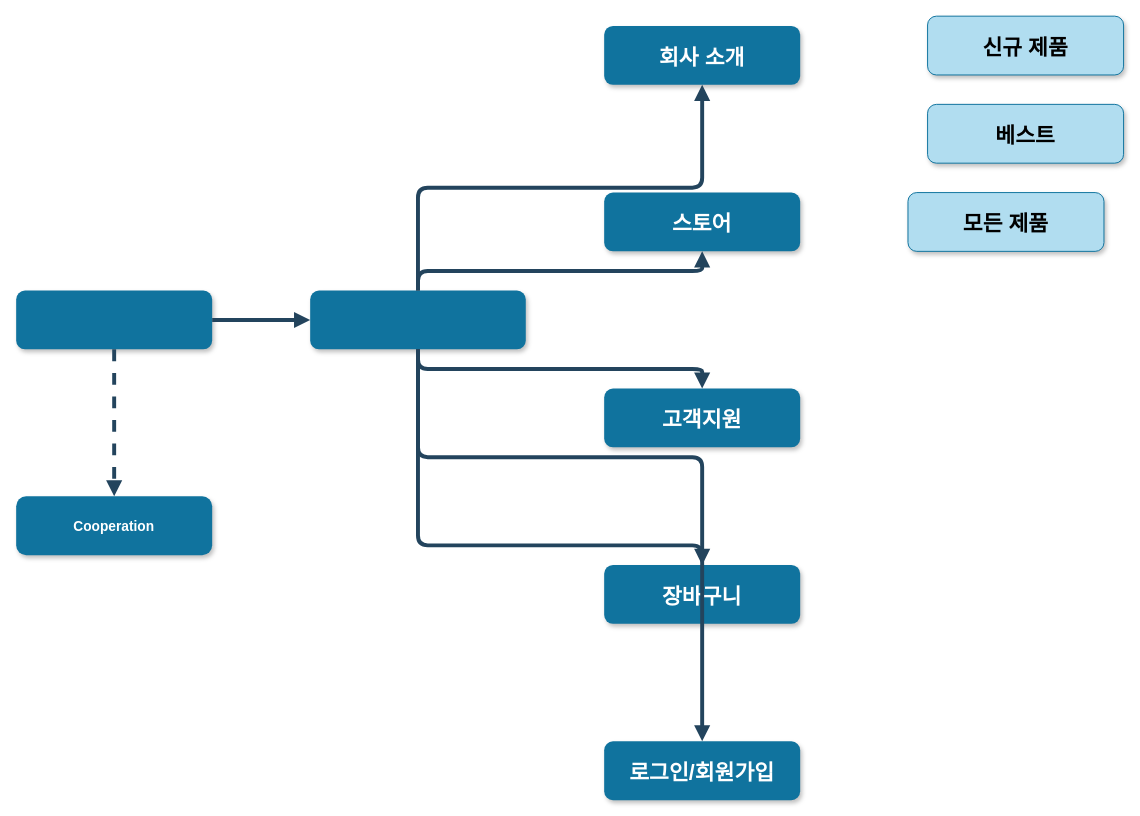
Image size: 1140x816. Some labels were removed from this diagram. The centre of each missing label's shape, as x and y in pixels:
"헤더" belongs at (x=418, y=321).
"홈페이지" belongs at (x=115, y=321).
